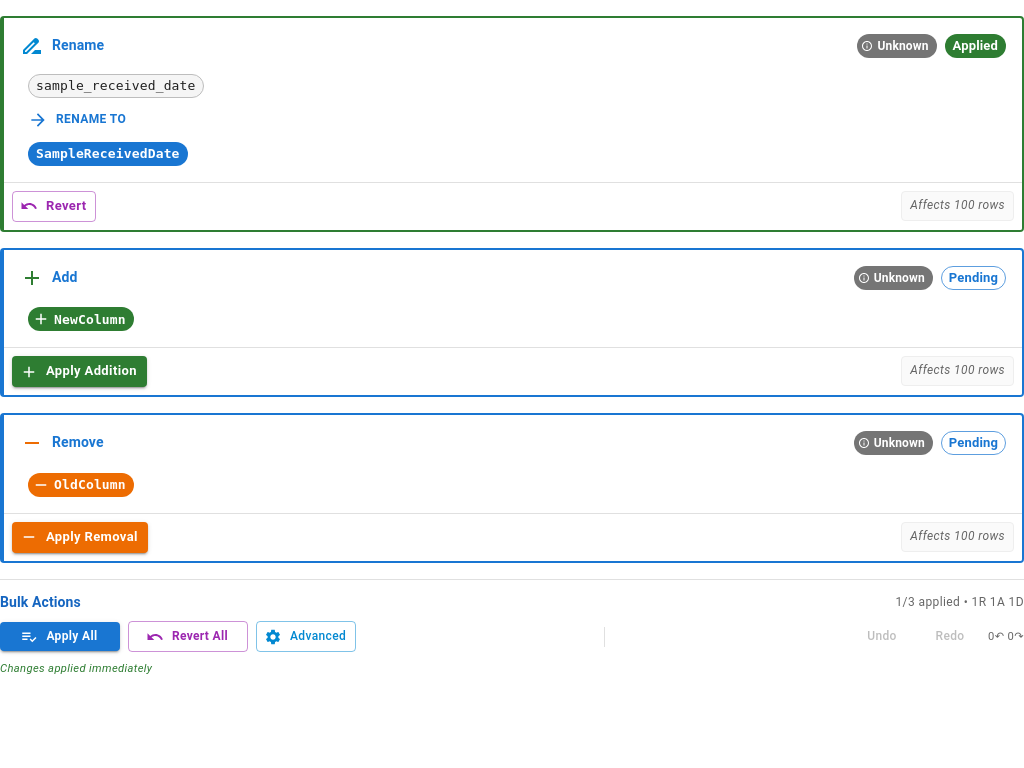
SchemaChangesPanel - Bulk Schema Transformation Actions › Revert All Functionality › should show confirmation dialog when Revert All is clicked
Click the button "Revert All" at [188, 637], box [128,622,248,652]
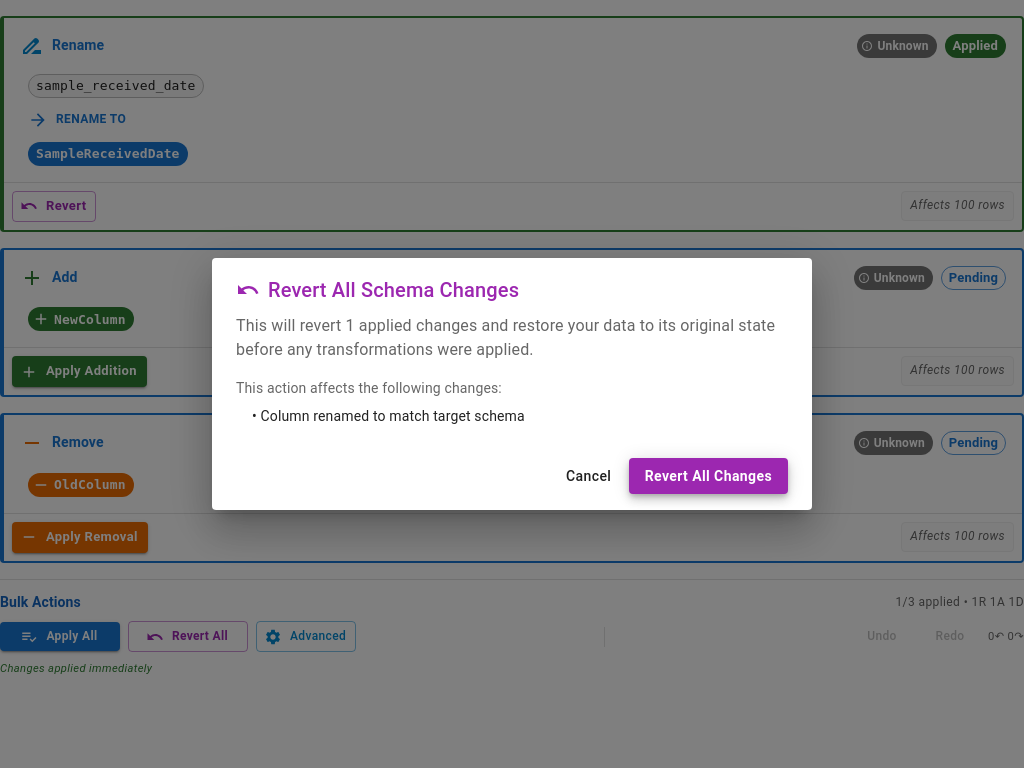
expect the text "Revert All Schema Changes" is shown: met, box [236,278,519,302]
